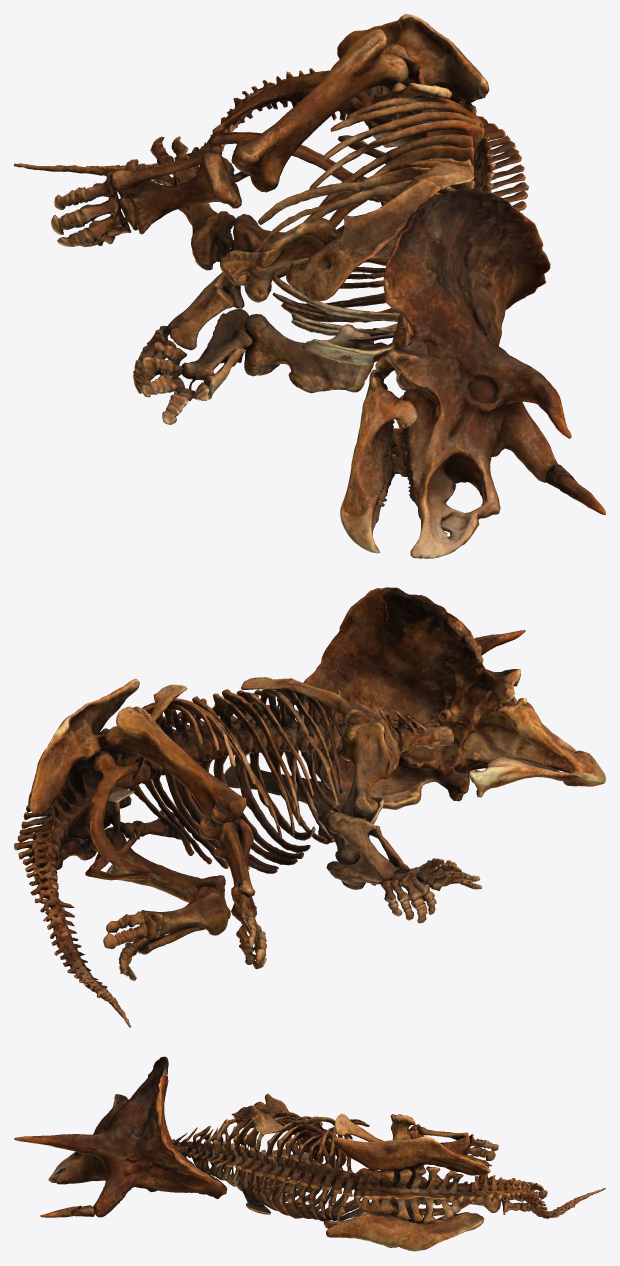
File: smithsonian-triceratops-pal500000.glb
The picture shows the model from 3 angles, top to bottom: view 1: azimuth 30°, elevation 25°; view 2: azimuth 150°, elevation 25°; view 3: azimuth 270°, elevation 25°; orthographic projection. The views are drawn at different scales.
Size of the model in its own units: 2.81 by 1.66 by 5.89.
Materials: 1 (1 with a texture image).
